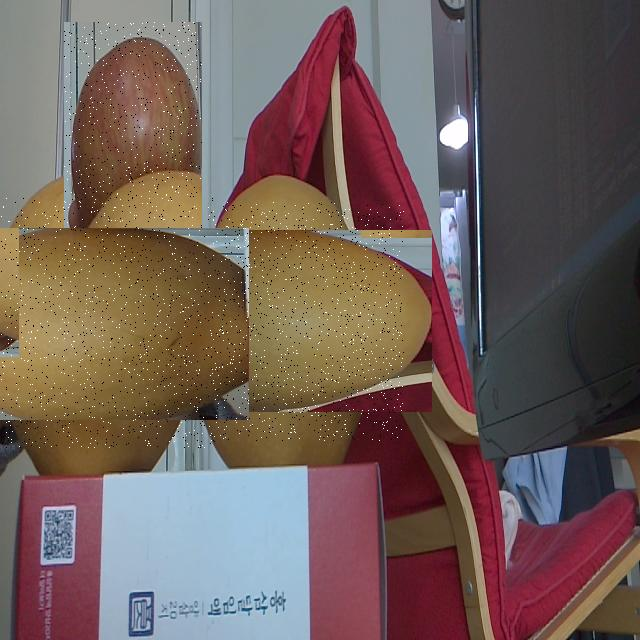apple: (64, 22, 202, 246)
pear: (165, 202, 404, 441), (0, 198, 221, 448)
